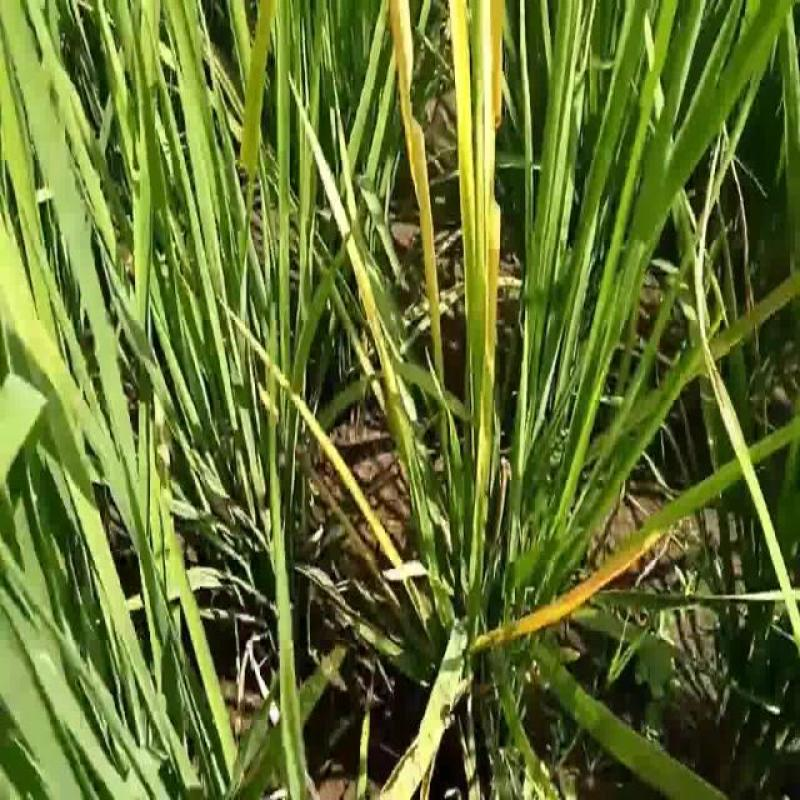Rice Tungro: (215, 286, 413, 609), (471, 519, 665, 660), (389, 1, 441, 301), (475, 4, 506, 428), (449, 1, 479, 361)
